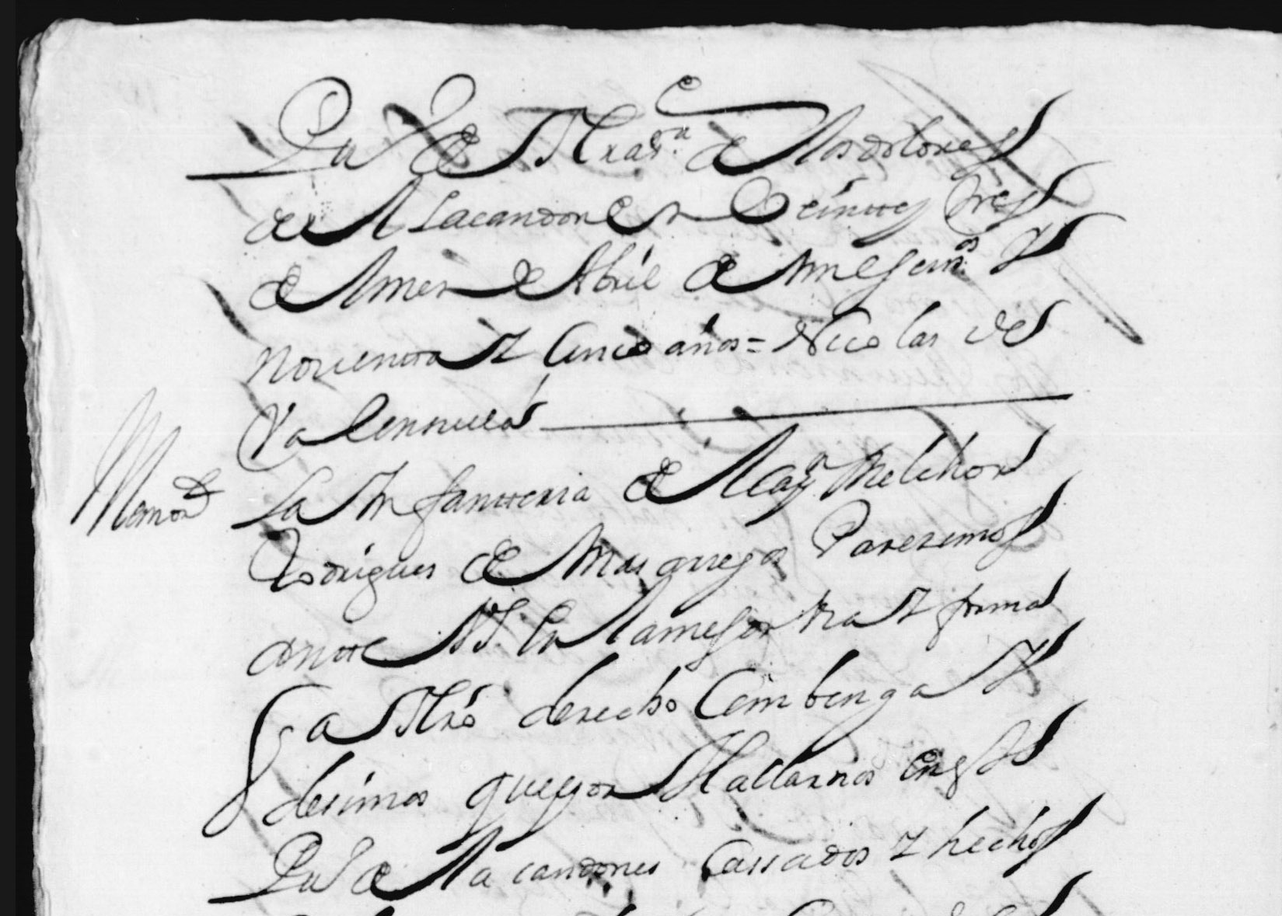lacandon: (407, 176, 789, 235)
